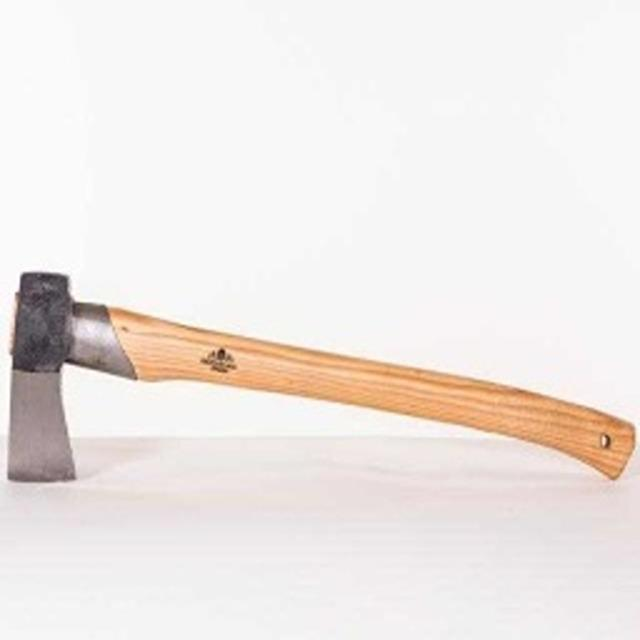ax: (3, 259, 640, 499)
